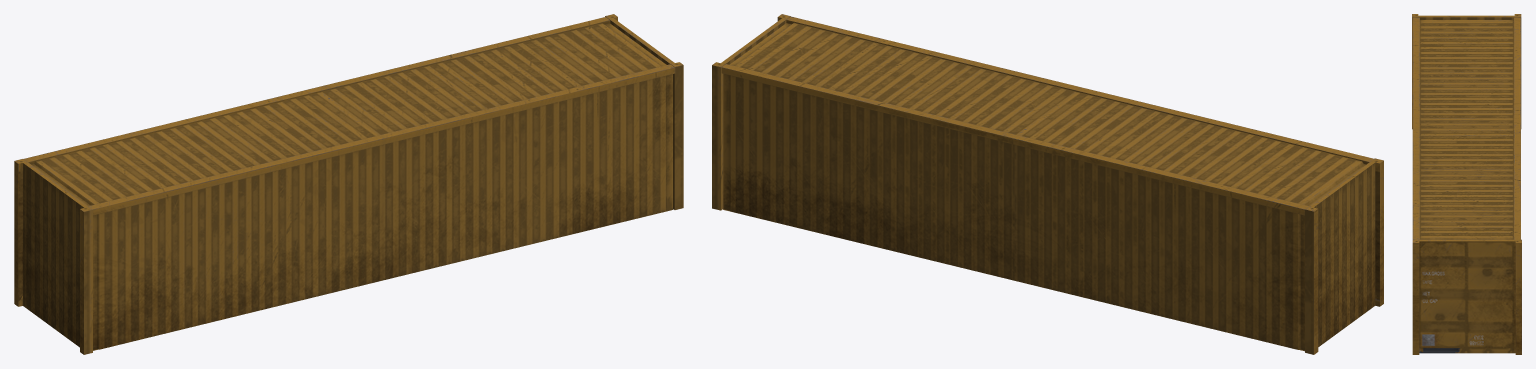
Rendered from con_yellow.fbx.
The picture shows the model from 3 angles, left to right: view 1: azimuth 30°, elevation 25°; view 2: azimuth 150°, elevation 25°; view 3: azimuth 270°, elevation 25°; orthographic projection. The views are drawn at different scales.
Parts seen in each view (by area): view 1: con_yellow; view 2: con_yellow; view 3: con_yellow.
Part boxes in pixels (x1=…): con_yellow: x1=14, y1=14, x2=683, y2=354; con_yellow: x1=712, y1=14, x2=1383, y2=354; con_yellow: x1=1412, y1=14, x2=1521, y2=354.
Bounding box in the file's own units: 1200 × 274 × 243.
1 material, 1 textured.
